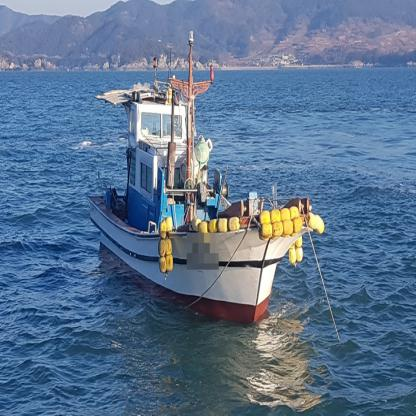fish-b: (83, 25, 327, 331)
